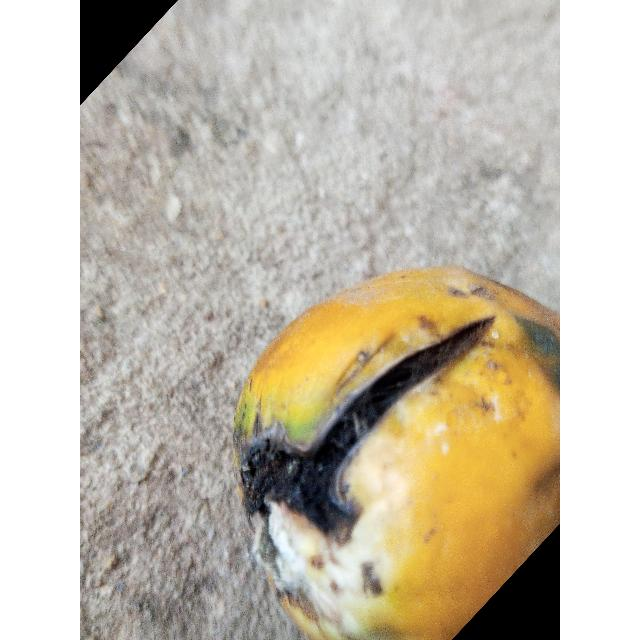damaged: (232, 266, 560, 640)
